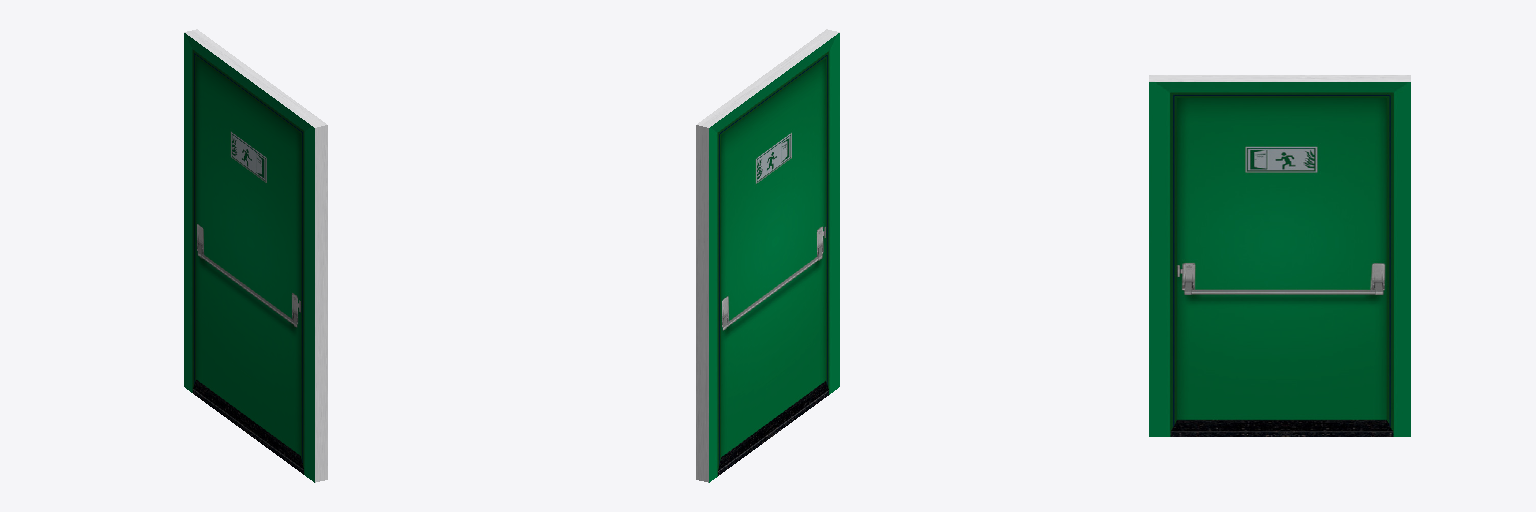
The picture shows the model from 3 angles: view 1: azimuth 30°, elevation 25°; view 2: azimuth 150°, elevation 25°; view 3: azimuth 270°, elevation 25°; orthographic projection.
Visible parts, largest first — view 1: pCube6; view 2: pCube6; view 3: pCube6.
Boxes of the visible parts, box(x1,y1,x2,y2) form: pCube6: box(184, 29, 327, 482); pCube6: box(696, 29, 839, 482); pCube6: box(1149, 75, 1410, 436).
Bounding box in the file's own units: 0.0724 × 1.88 × 1.25.
Materials: 2 (2 with a texture image).